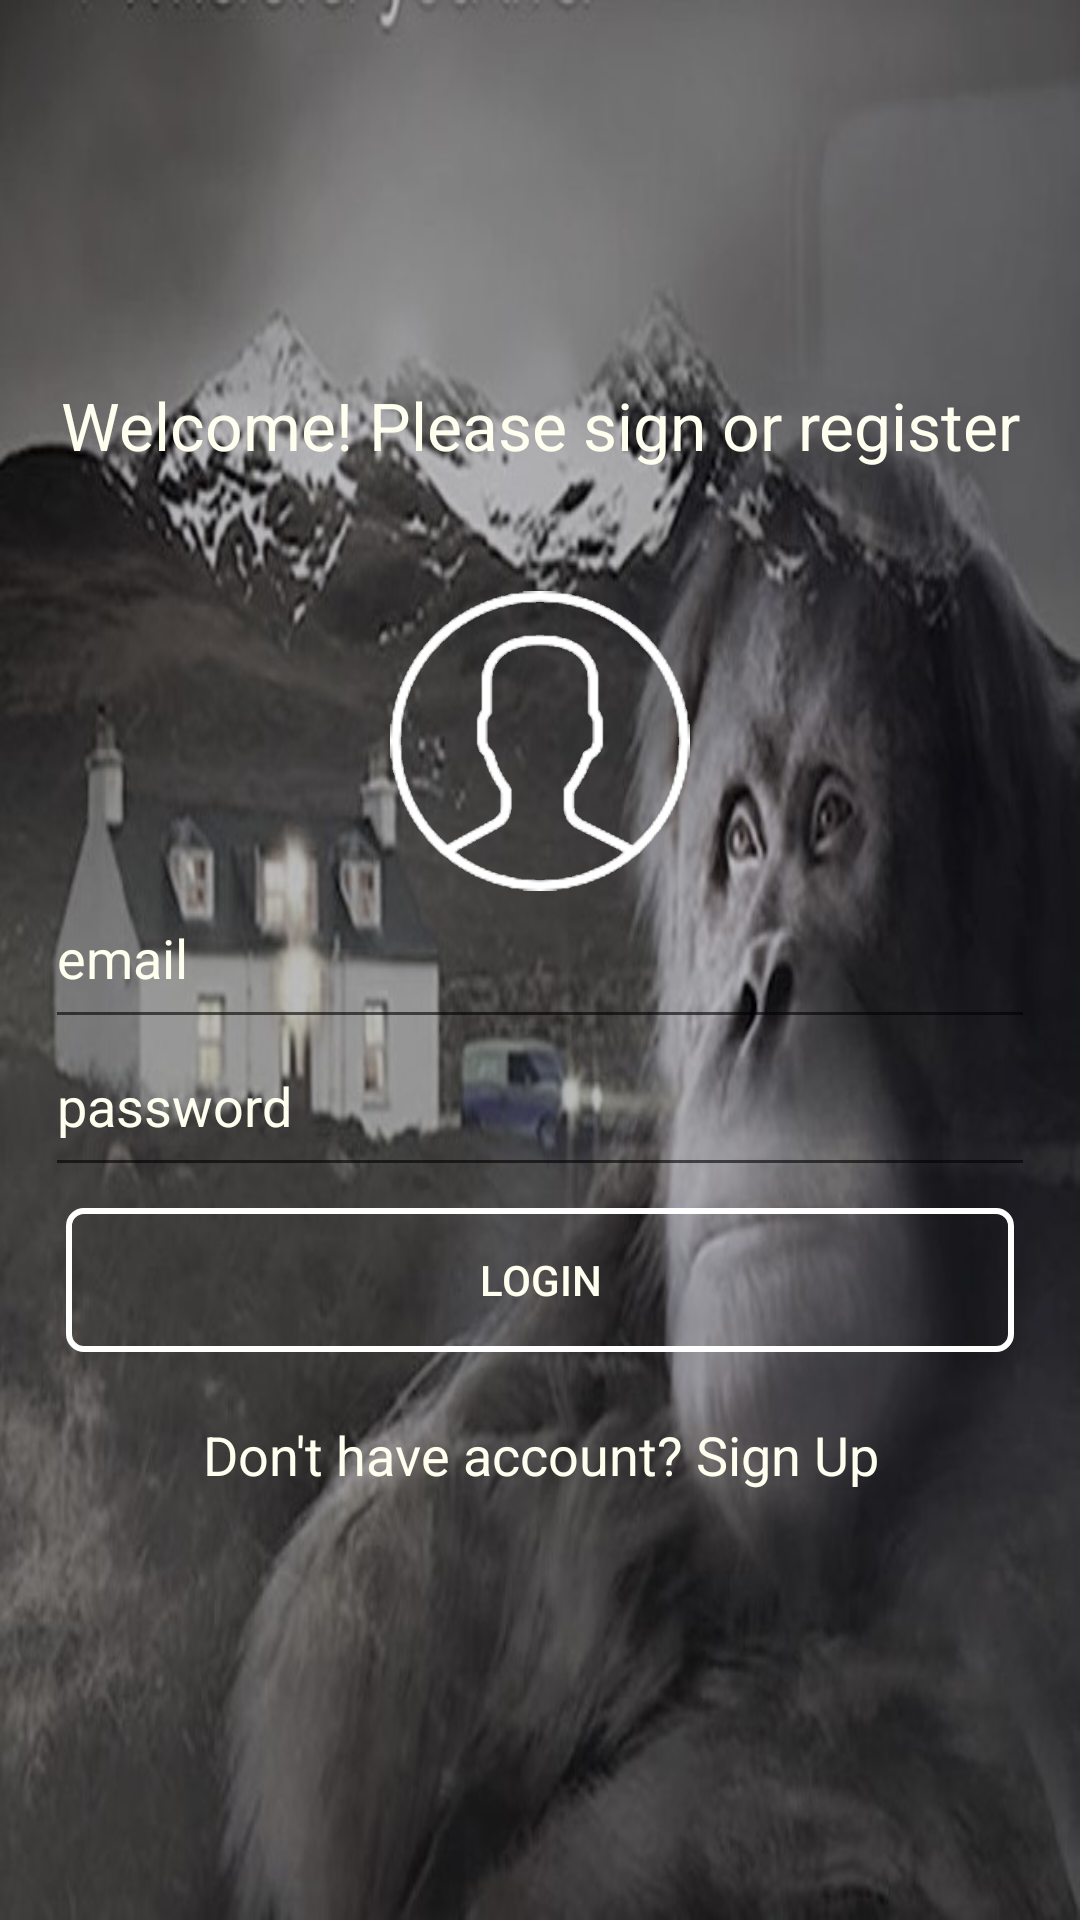

Icons on this 1080px x 1920px Android screen, each with the point to tap as point (x, y):
user: point (540, 741)
